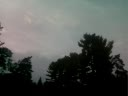window: (118, 60, 128, 78)
